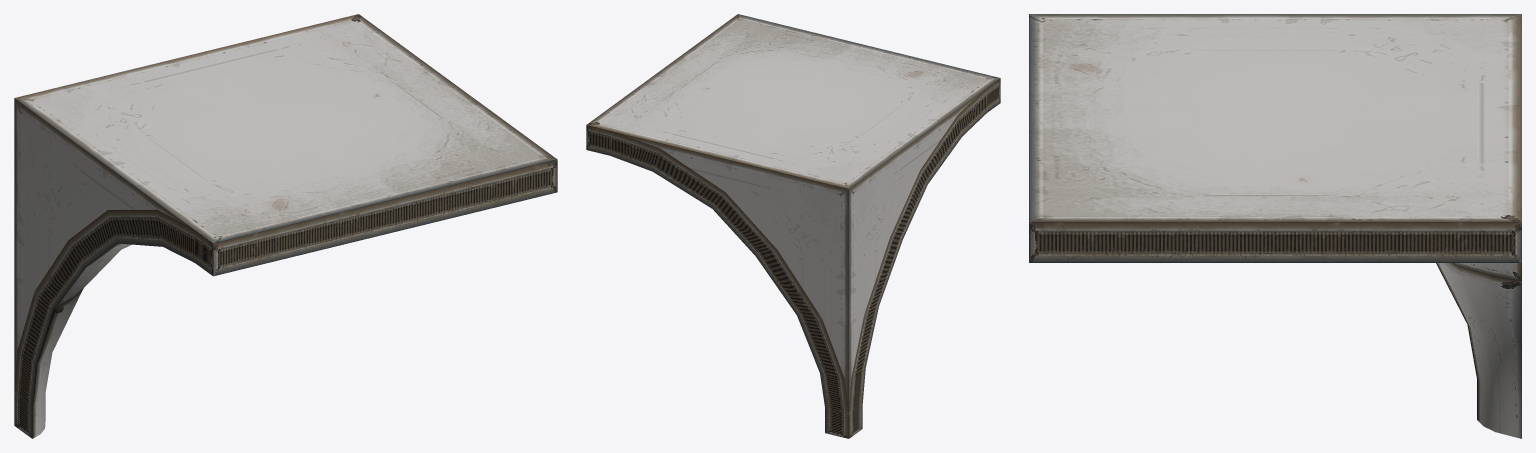
Rendered from scifi_wall_top2_curve5_1.FBX.
3 renders of one model, left to right at view 1: azimuth 30°, elevation 25°; view 2: azimuth 150°, elevation 25°; view 3: azimuth 270°, elevation 25°, orthographic. The views are drawn at different scales.
Visible parts, largest first — view 1: Plane350; view 2: Plane350; view 3: Plane350.
Part boxes in pixels (x1,y1,x2,y2): Plane350: [14, 14, 557, 438]; Plane350: [586, 14, 1000, 438]; Plane350: [1029, 14, 1521, 438].
Bounding box in the file's own units: 279 × 254 × 279.
